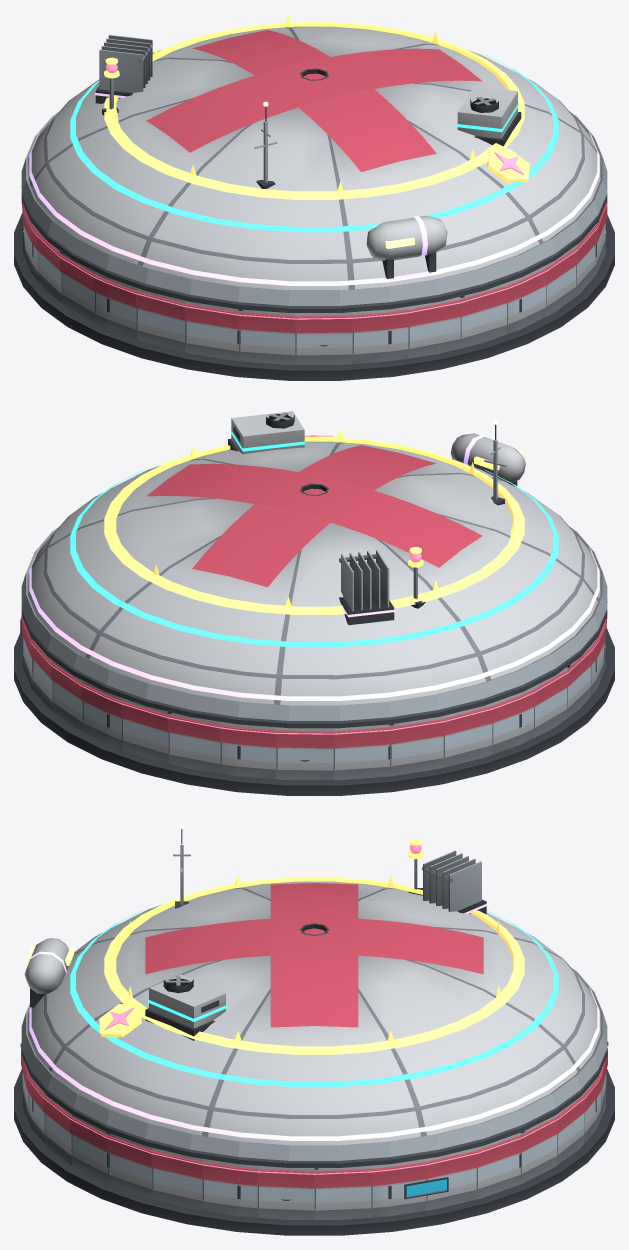
Rendered from medical_m.glb.
3 renders of one model, top to bottom at view 1: azimuth 30°, elevation 25°; view 2: azimuth 150°, elevation 25°; view 3: azimuth 270°, elevation 25°, orthographic.
Parts seen in each view (by area): view 1: Roof, Base, L5, L3, L4, Wall_21, Wall_20, Wall_22, Wall_19, Wall_23, Wall_18, Wall_24 (+20 smaller); view 2: Roof, Base, L5, L3, L4, Wall_10, Wall_11, Wall_09, Wall_12, Wall_08, Wall_13, Wall_07 (+18 smaller); view 3: Roof, Base, L5, L3, L4, Wall_00, Wall_31, Wall_30, Wall_29, Wall_01, Wall_02, Wall_28 (+18 smaller).
Boxes of the visible parts, x1,y1,x2,y2 form: Roof: [21, 26, 607, 312]; Base: [14, 212, 614, 380]; L5: [102, 14, 529, 199]; L3: [70, 55, 558, 232]; L4: [95, 34, 447, 278]; Wall_21: [295, 312, 352, 364]; Wall_20: [238, 308, 295, 364]; Wall_22: [352, 306, 408, 363]; Wall_19: [184, 301, 238, 361]; Wall_23: [408, 297, 461, 358]; Wall_18: [135, 288, 185, 352]; Wall_24: [460, 283, 507, 348]; Roof: [21, 441, 607, 728]; Base: [14, 628, 614, 795]; L5: [104, 429, 524, 614]; L3: [70, 411, 558, 647]; L4: [339, 433, 525, 625]; Wall_10: [276, 727, 333, 780]; Wall_11: [333, 724, 390, 780]; Wall_09: [220, 722, 276, 779]; Wall_12: [390, 716, 444, 776]; Wall_08: [167, 710, 220, 773]; Wall_13: [443, 703, 493, 767]; Wall_07: [121, 698, 168, 763]; Roof: [21, 881, 607, 1167]; Base: [14, 1069, 614, 1235]; L5: [99, 838, 524, 1054]; L3: [70, 909, 558, 1087]; L4: [24, 850, 487, 1007]; Wall_00: [314, 1165, 371, 1220]; Wall_31: [257, 1165, 314, 1219]; Wall_30: [202, 1159, 257, 1217]; Wall_29: [151, 1147, 202, 1210]; Wall_01: [371, 1159, 426, 1217]; Wall_02: [426, 1147, 477, 1210]; Wall_28: [107, 1132, 152, 1199].
Size of the model in its own units: 13.25 by 5.54 by 13.25.
